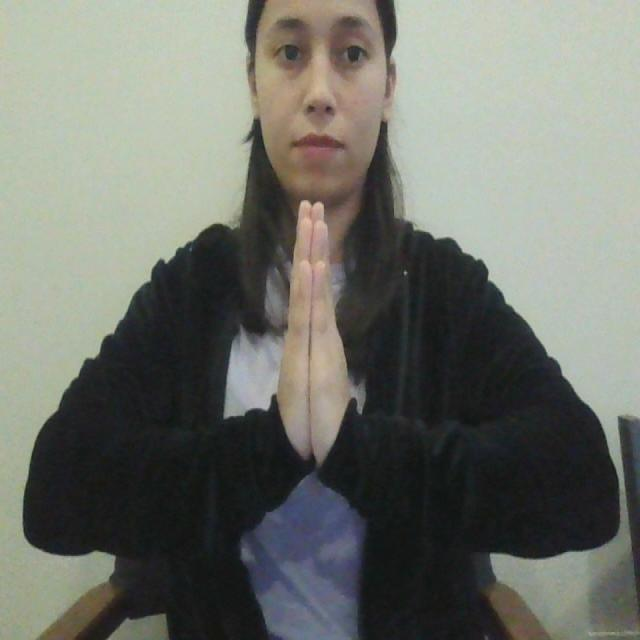Ozur-Dilemek: (271, 194, 355, 476)
